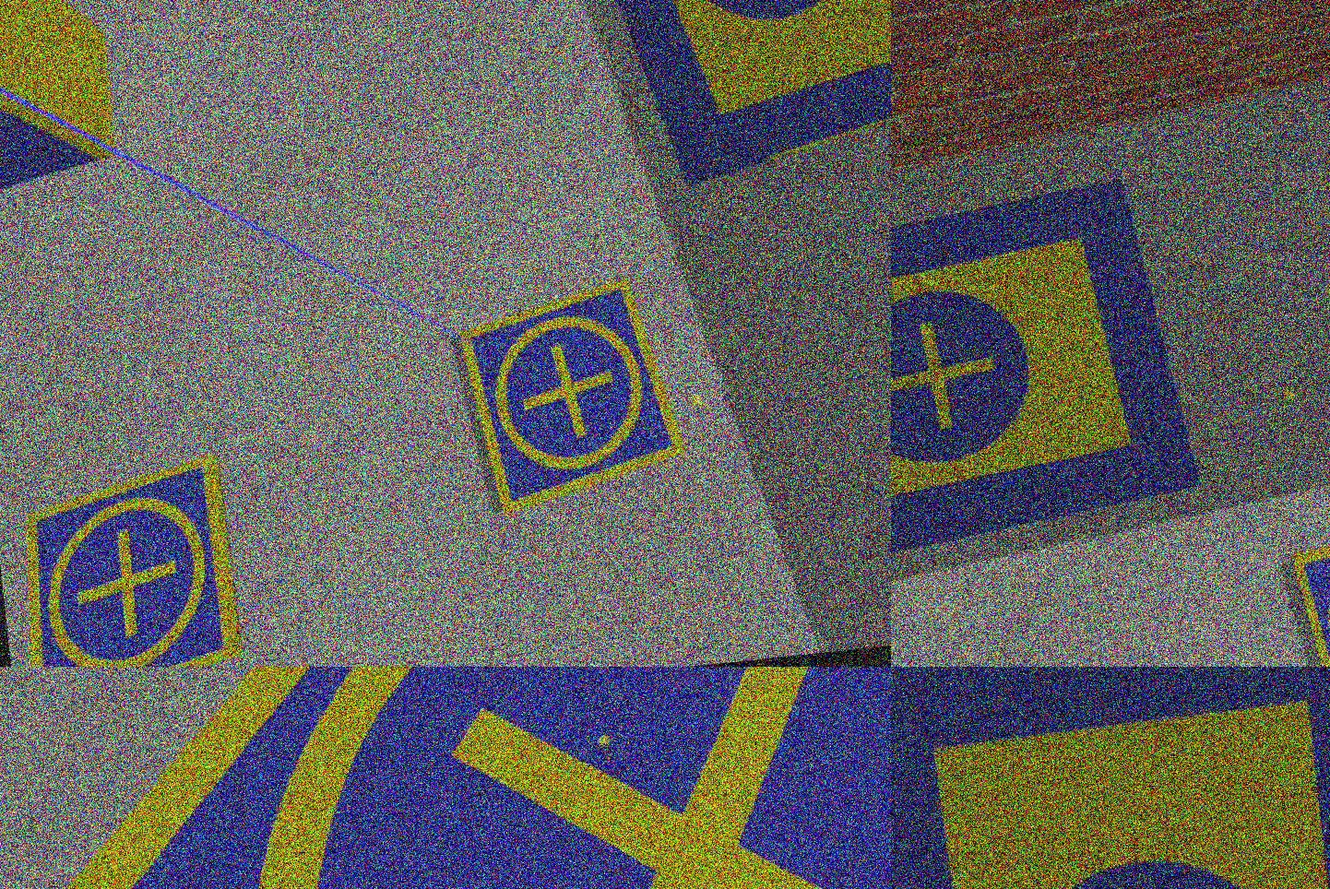large_base: (892, 171, 1213, 595), (892, 668, 1330, 889), (548, 1, 892, 198)
small_base: (1, 668, 892, 889), (450, 275, 693, 521), (10, 453, 249, 668)
